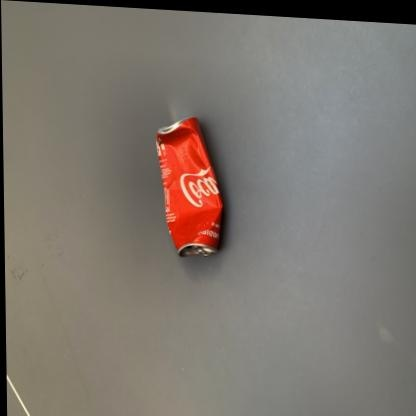trash: (156, 117, 222, 255)
